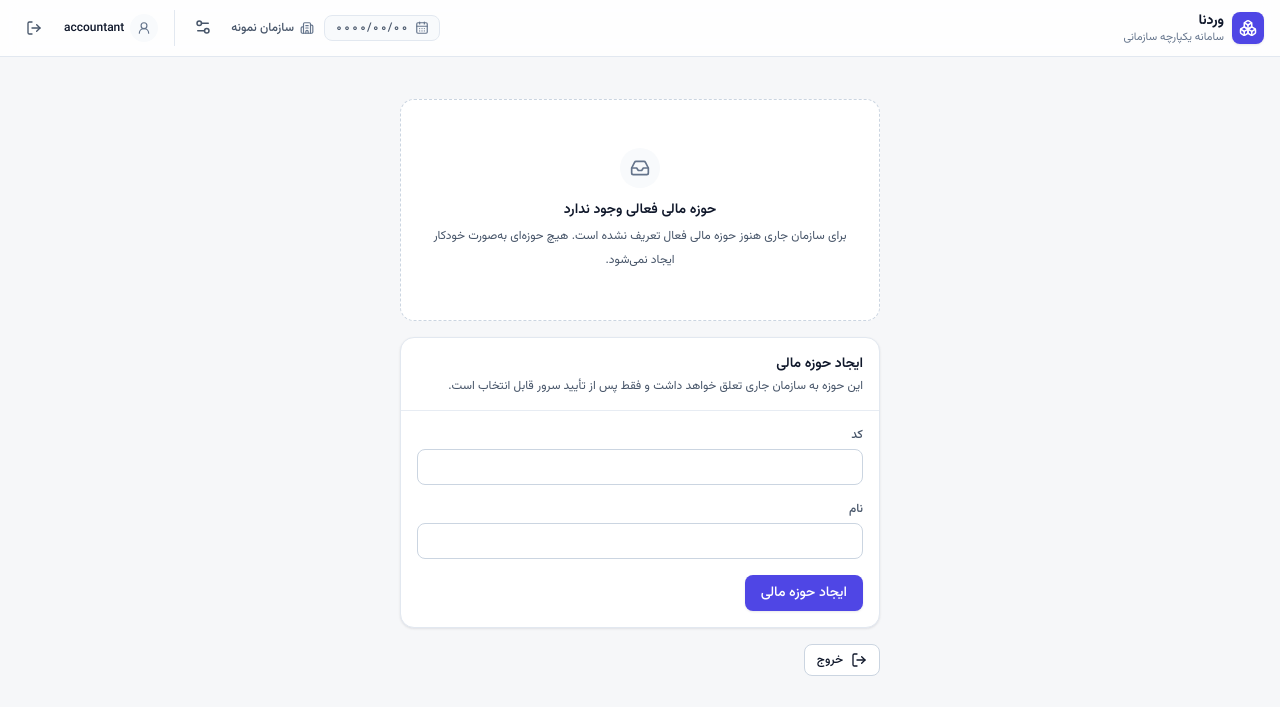
Scenario: financial workspace context gate › creates the first area only from explicit input, then re-enters through the server list
In the field labelled "کد": point(640, 467) [417,449,863,485], type "FIN"
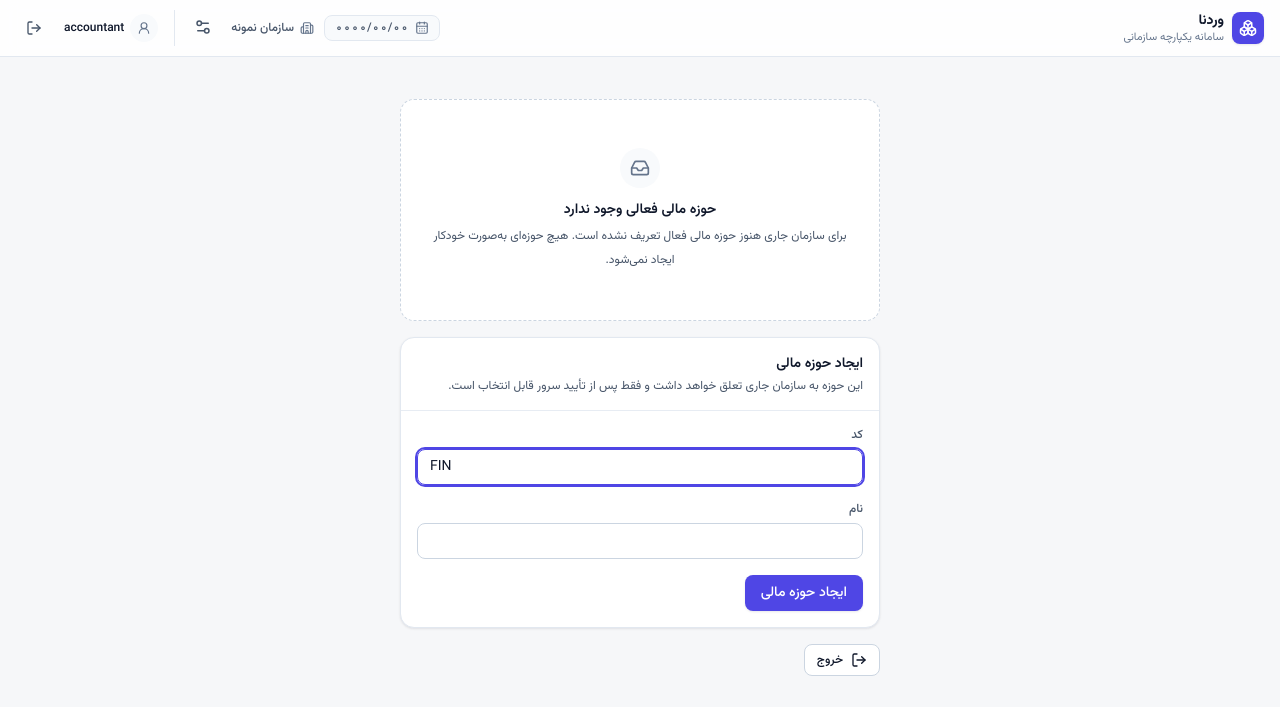
In the field labelled "نام": point(640, 541) [417,523,863,559], type "حوزه مالی اصلی"
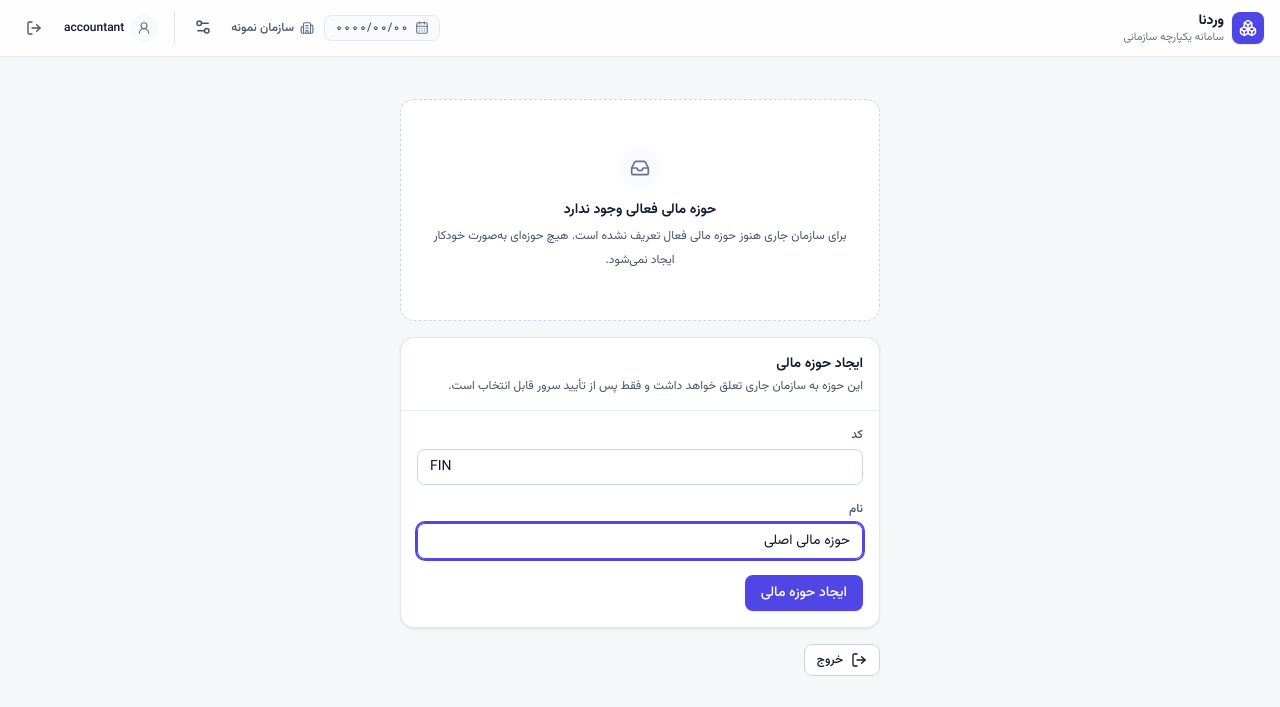
Click the button "ایجاد حوزه مالی": point(804, 593) [745,575,863,611]
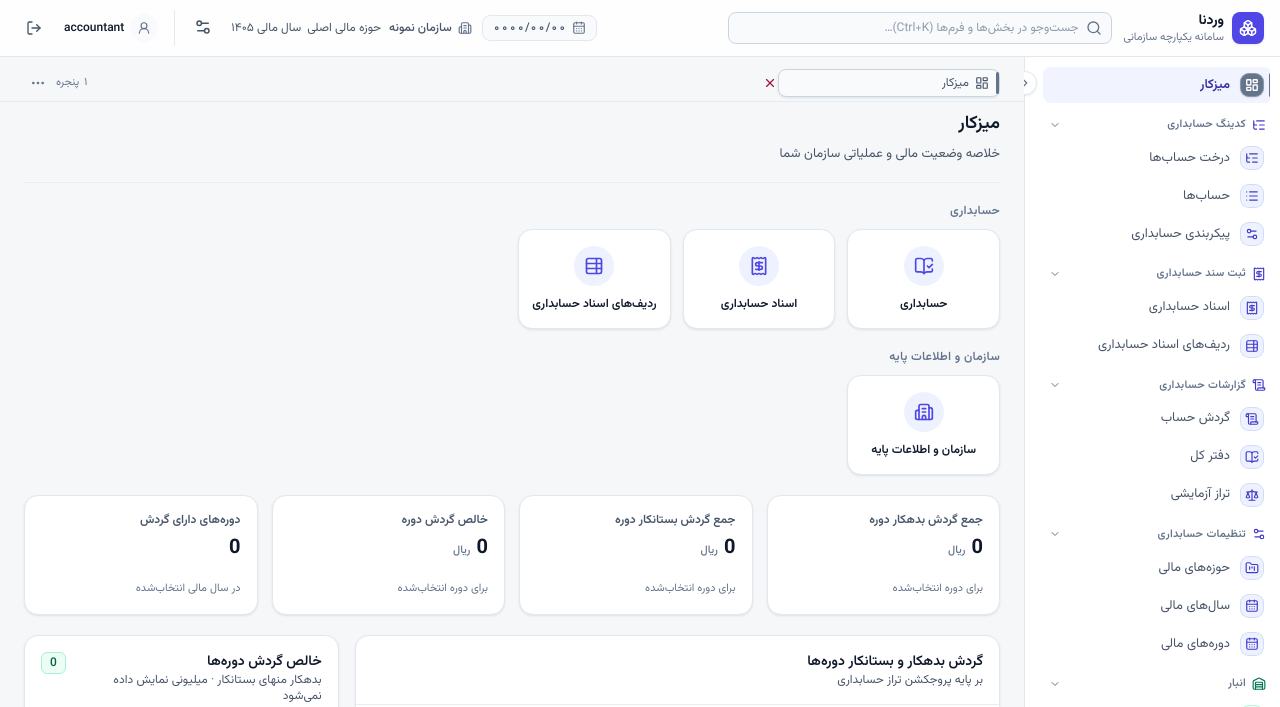
expect the heading "میزکار" is shown: met, box [958,110,1000,138]
